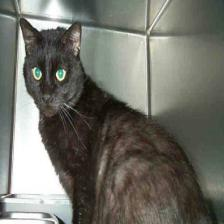cat: (16, 12, 91, 121)
